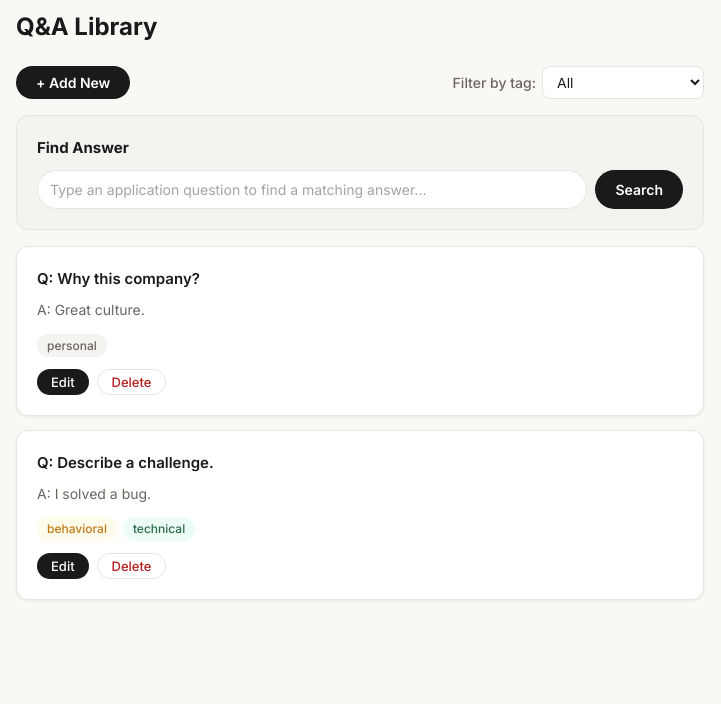
Test: QALibrary › creates a new QA pair via the form
Check: the text "Q: Why this company?" is shown, box [37,269,200,288]
Click the button "+ Add New": coordinates (73, 83) [16,66,130,99]
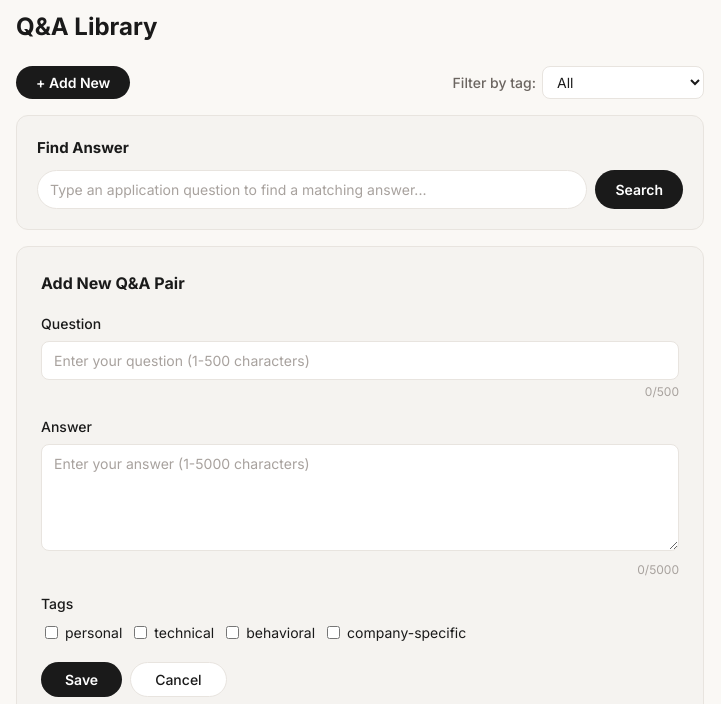
In the field labelled "Question": coordinates (360, 361) [41,341,679,380], type "New Q?"
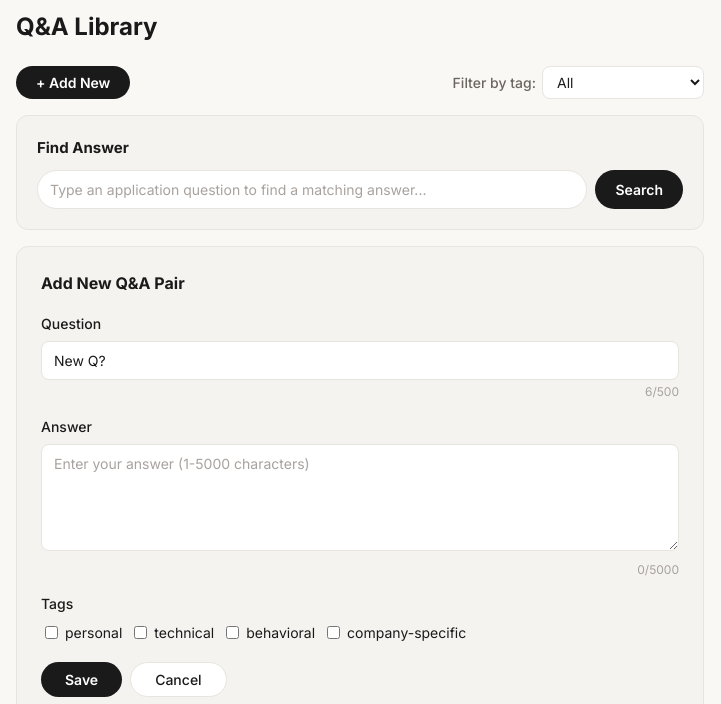
In the text box labelled "Answer": coordinates (360, 498) [41,444,679,551], type "New A."
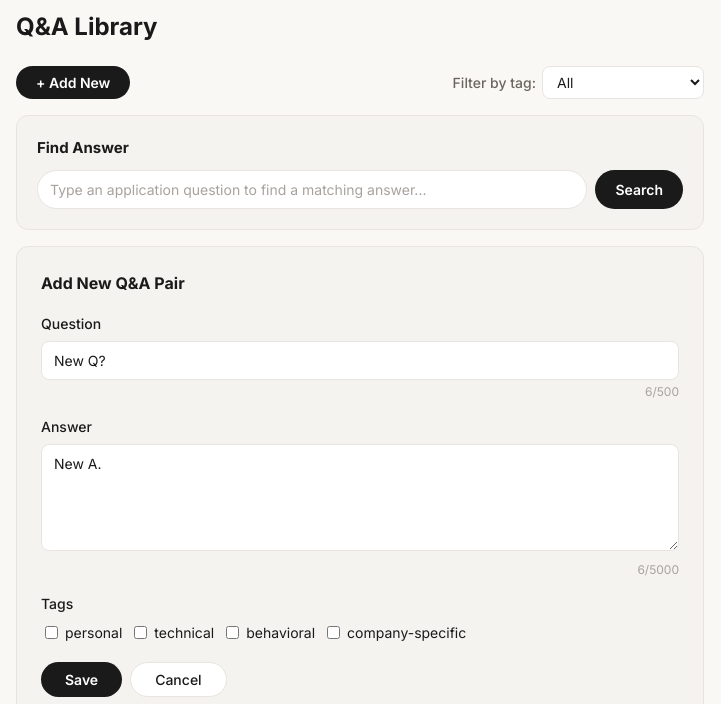
Click the button "Save": coordinates (82, 679) [41,662,122,697]
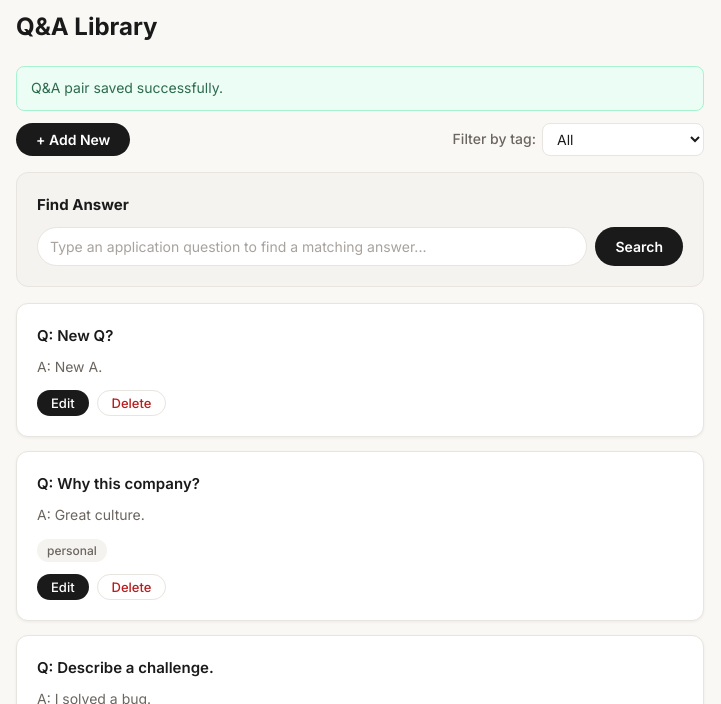
Check: the text "Q&A pair saved successfully." is shown, box [16,66,704,111]
